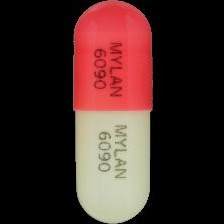0378-6090: (0, 0, 224, 224)
